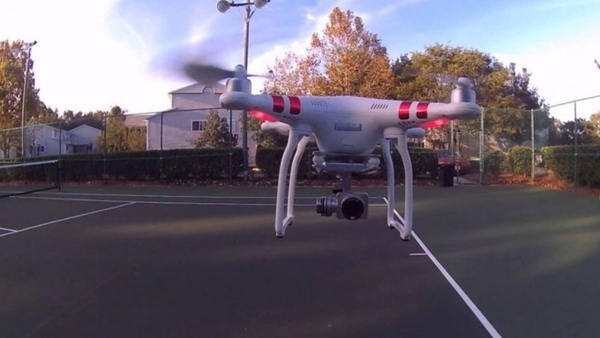drone: (152, 54, 490, 244)
